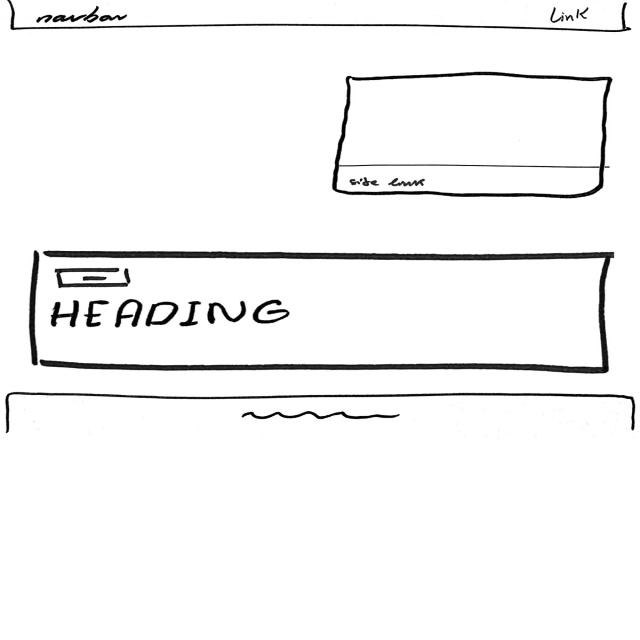container: (29, 249, 611, 374), (331, 70, 609, 197), (6, 0, 627, 32)
icon-button: (53, 267, 133, 289)
label: (50, 298, 290, 330), (32, 5, 130, 22), (348, 176, 428, 188), (547, 5, 590, 22)
text: (242, 409, 402, 423)
